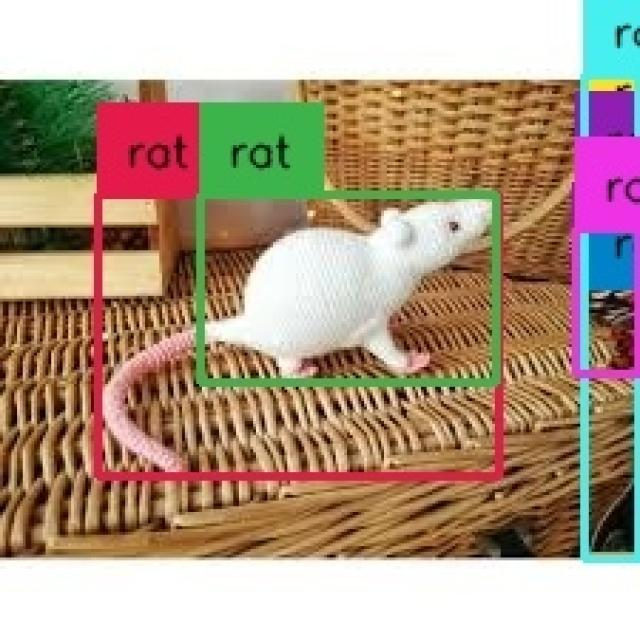rat: (100, 195, 498, 476), (200, 193, 497, 384), (583, 77, 640, 557), (583, 133, 640, 558), (583, 198, 640, 556), (586, 284, 640, 558), (574, 182, 640, 375), (574, 229, 640, 374)
